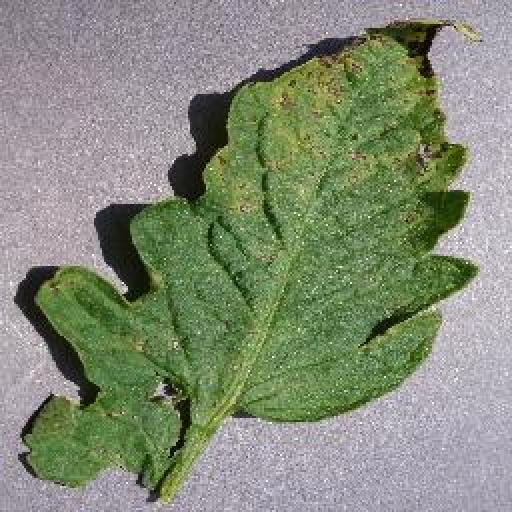disease_tomato: (8, 16, 478, 486)
